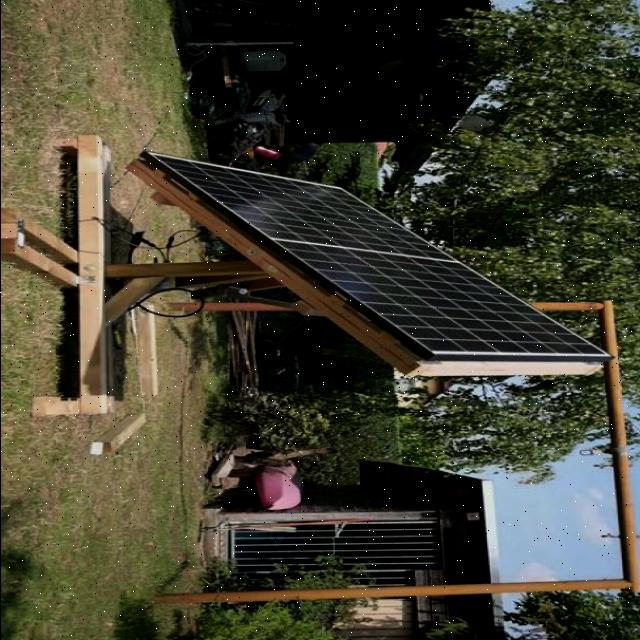Normal Solar Panel: (146, 151, 601, 360)
